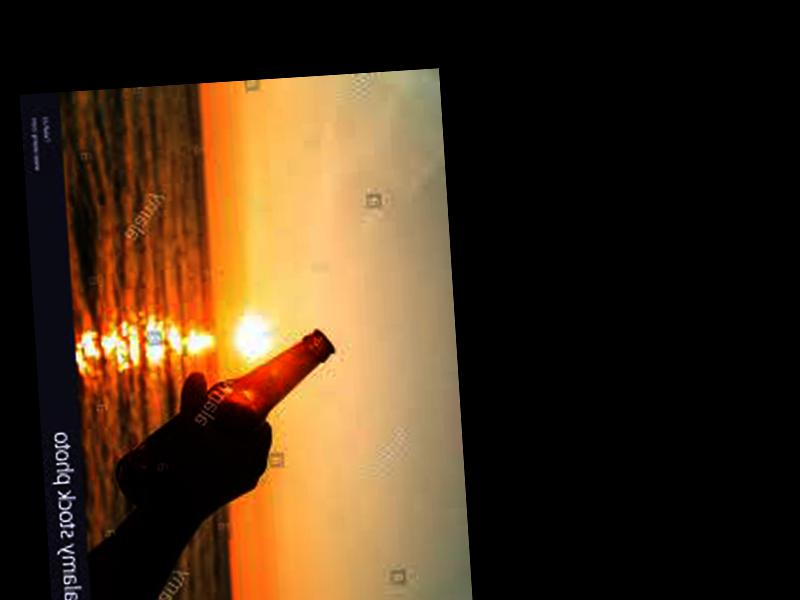Beer: (107, 329, 347, 512)
